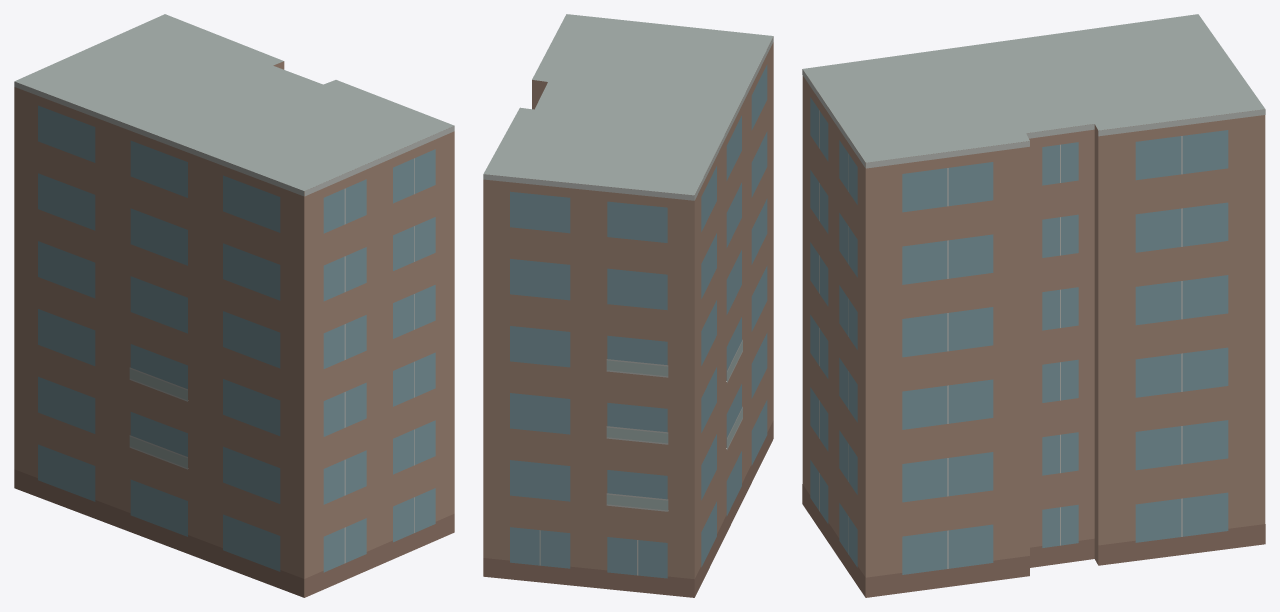
The model's file is survey-upis-33026198.glb.
3 renders of one model, left to right at view 1: azimuth 30°, elevation 25°; view 2: azimuth 150°, elevation 25°; view 3: azimuth 270°, elevation 25°, orthographic. The views are drawn at different scales.
Visible parts, largest first — view 1: survey-upis-33026198.tmp; view 2: survey-upis-33026198.tmp; view 3: survey-upis-33026198.tmp.
Boxes of the visible parts, x1=… form: survey-upis-33026198.tmp: x1=14, y1=14, x2=454, y2=597; survey-upis-33026198.tmp: x1=483, y1=14, x2=773, y2=597; survey-upis-33026198.tmp: x1=802, y1=14, x2=1265, y2=597.
Size of the model in its own units: 13.43 by 18.3 by 17.66.
